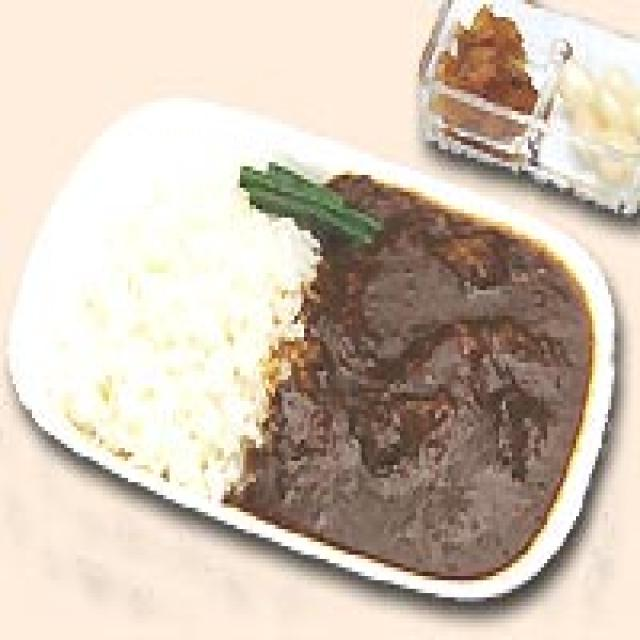牛肉菜式: (12, 102, 618, 598)
